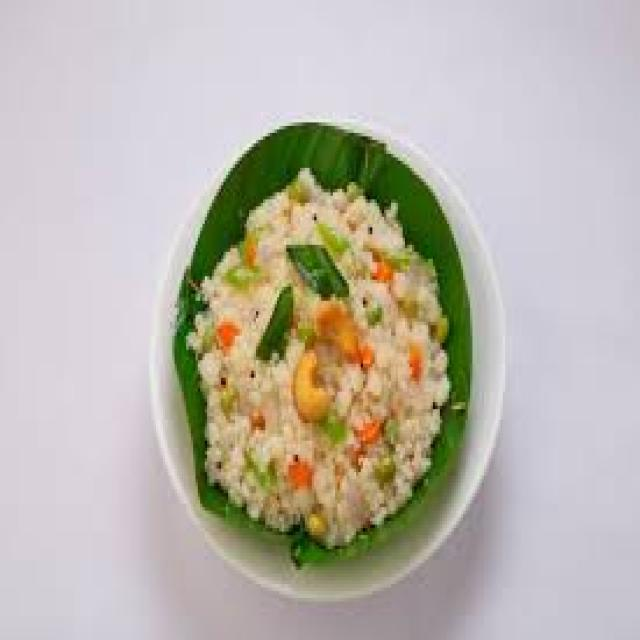UPMA: (186, 168, 449, 539)
